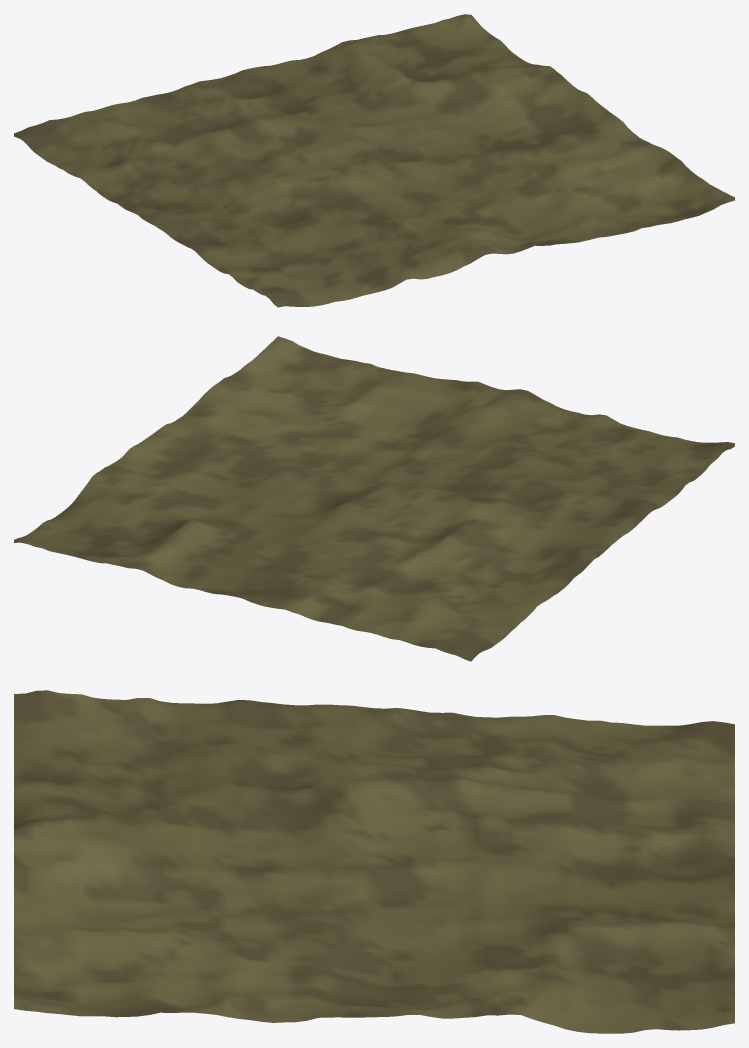
The model's file is land_f_07_00.glb.
3 renders of one model, top to bottom at view 1: azimuth 30°, elevation 25°; view 2: azimuth 150°, elevation 25°; view 3: azimuth 270°, elevation 25°, orthographic. The views are drawn at different scales.
Visible parts, largest first — view 1: land_f_07_00; view 2: land_f_07_00; view 3: land_f_07_00.
Boxes of the visible parts, x1,y1,x2,y2 form: land_f_07_00: (14,14,734,307); land_f_07_00: (14,336,734,661); land_f_07_00: (14,690,734,1033).
Bounding box in the file's own units: 3840 × 242 × 3840.
